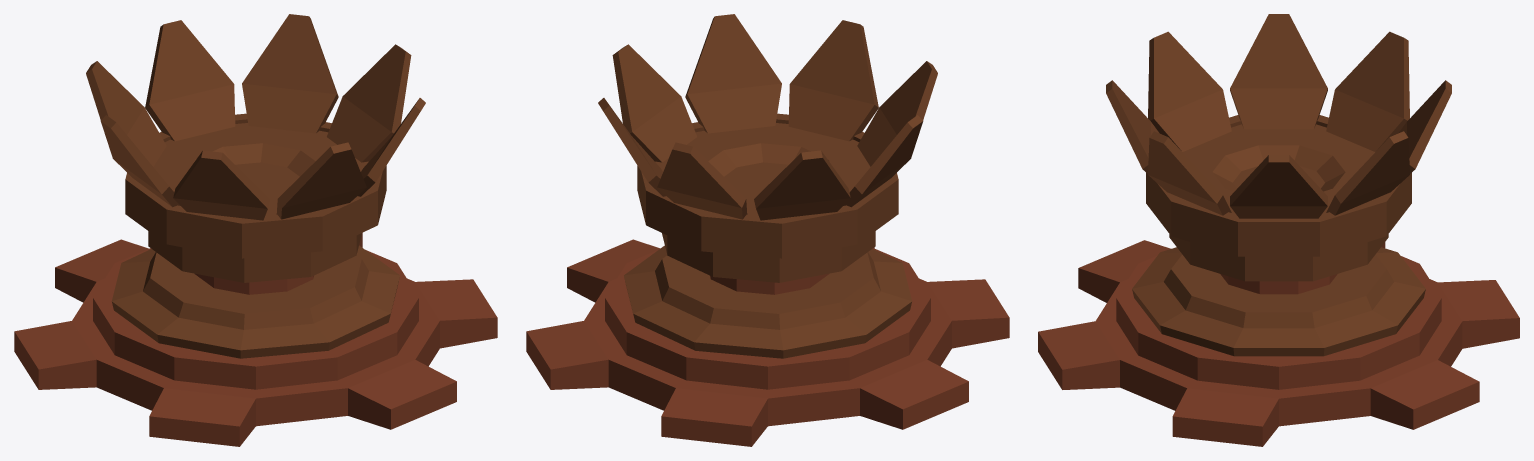
The model's file is Teleporter1.glb.
3 renders of one model, left to right at view 1: azimuth 30°, elevation 25°; view 2: azimuth 150°, elevation 25°; view 3: azimuth 270°, elevation 25°, orthographic.
Parts seen in each view (by area): view 1: Teleporter1, Teleporter1_Top; view 2: Teleporter1, Teleporter1_Top; view 3: Teleporter1, Teleporter1_Top.
Boxes of the visible parts, x1,y1,x2,y2 form: Teleporter1: [14, 113, 497, 446]; Teleporter1_Top: [86, 14, 425, 220]; Teleporter1: [526, 113, 1009, 446]; Teleporter1_Top: [598, 14, 937, 220]; Teleporter1: [1038, 115, 1519, 446]; Teleporter1_Top: [1106, 14, 1451, 218].
Size of the model in its own units: 1.38 by 0.8339 by 1.38.
